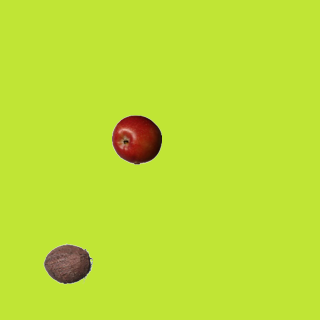Apple Braeburn: (111, 114, 161, 164)
Cocos: (42, 238, 92, 288)
